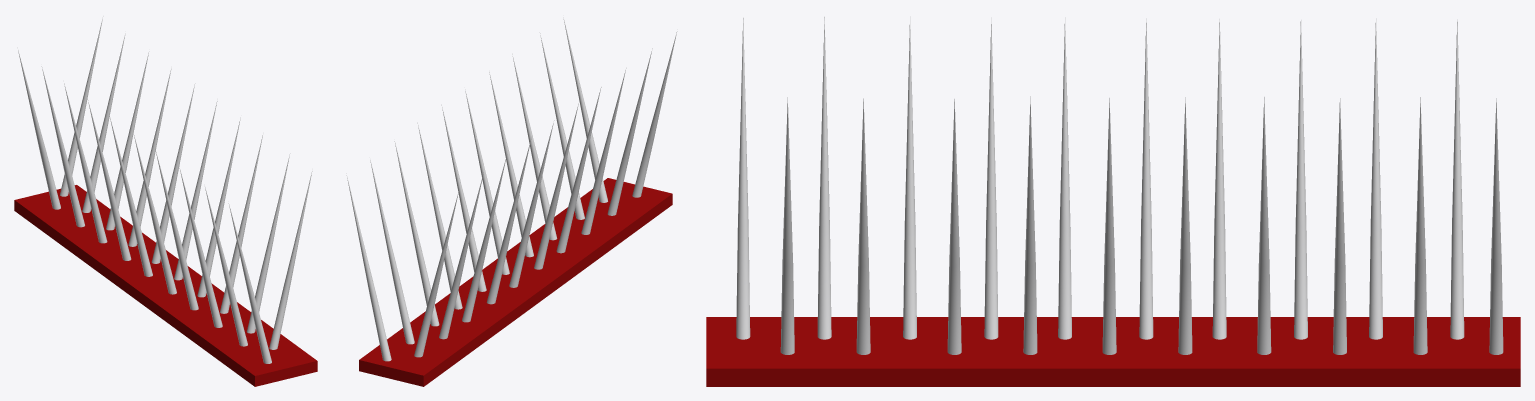
The model's file is SPIKES.fbx.
3 views of the same model, side by side, from view 1: azimuth 30°, elevation 25°; view 2: azimuth 150°, elevation 25°; view 3: azimuth 270°, elevation 25° (orthographic). The views are drawn at different scales.
Visible parts, largest first — view 1: Cone006, Box001; view 2: Cone006, Box001; view 3: Cone006, Box001.
Boxes of the visible parts, x1=… form: Cone006: x1=18, y1=16, x2=312, y2=363; Box001: x1=14, y1=185, x2=317, y2=386; Cone006: x1=346, y1=17, x2=677, y2=361; Box001: x1=359, y1=178, x2=672, y2=386; Cone006: x1=736, y1=16, x2=1503, y2=354; Box001: x1=706, y1=317, x2=1520, y2=386.
Bounding box in the file's own units: 9.41 × 16.71 × 40.
